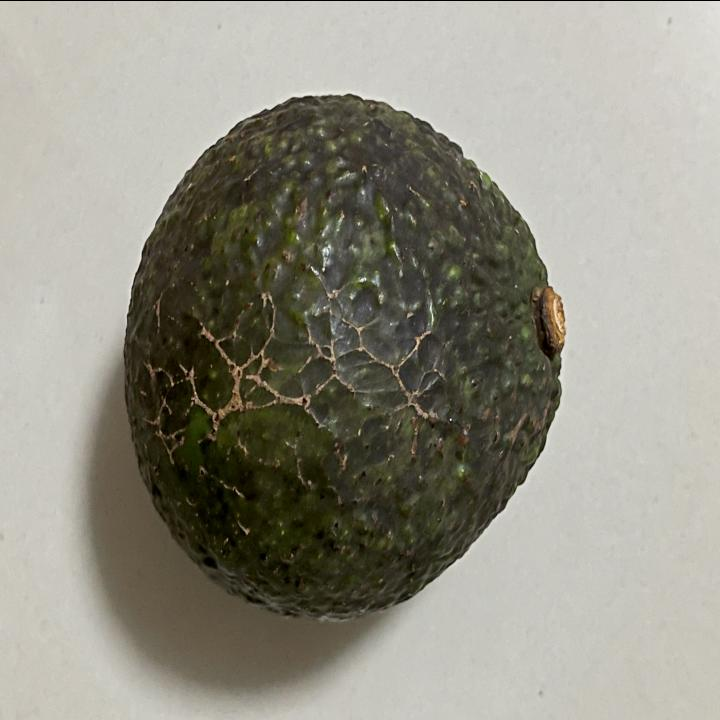Level1: (107, 75, 582, 636)
